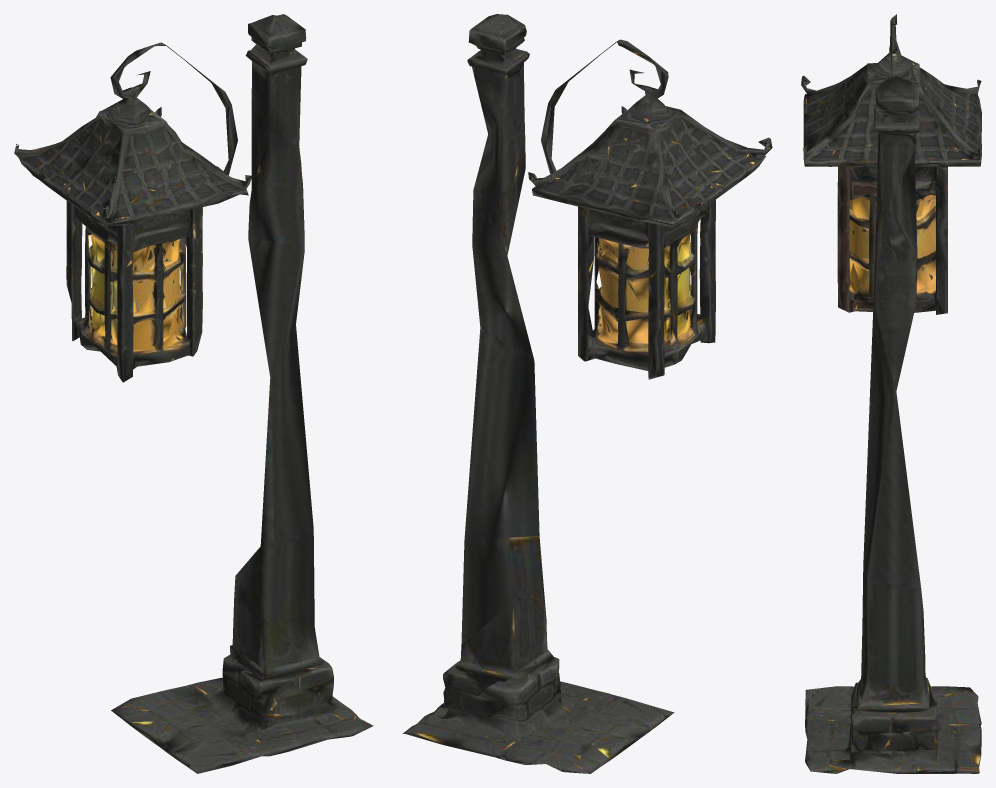
The model's file is lantern.glb.
3 views of the same model, side by side, from view 1: azimuth 30°, elevation 25°; view 2: azimuth 150°, elevation 25°; view 3: azimuth 270°, elevation 25° (orthographic). The views are drawn at different scales.
Bounding box in the file's own units: 0.7787 × 1.89 × 0.4615.
Materials: 1 (1 with a texture image).
